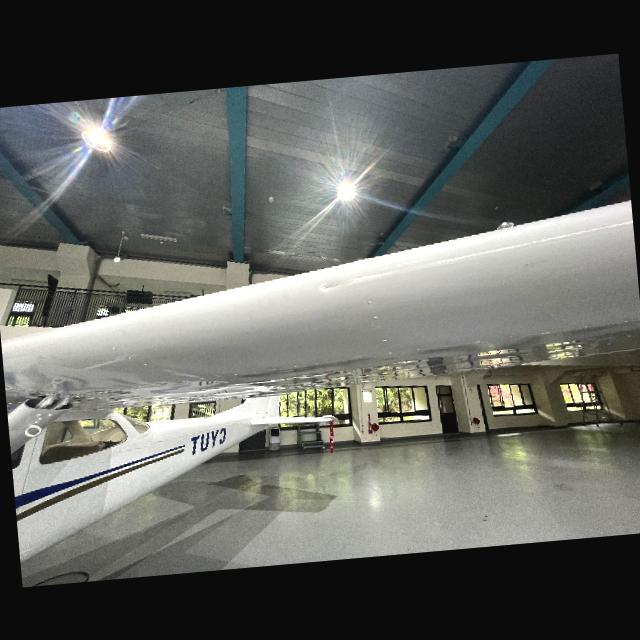dent: (315, 279, 345, 297)
